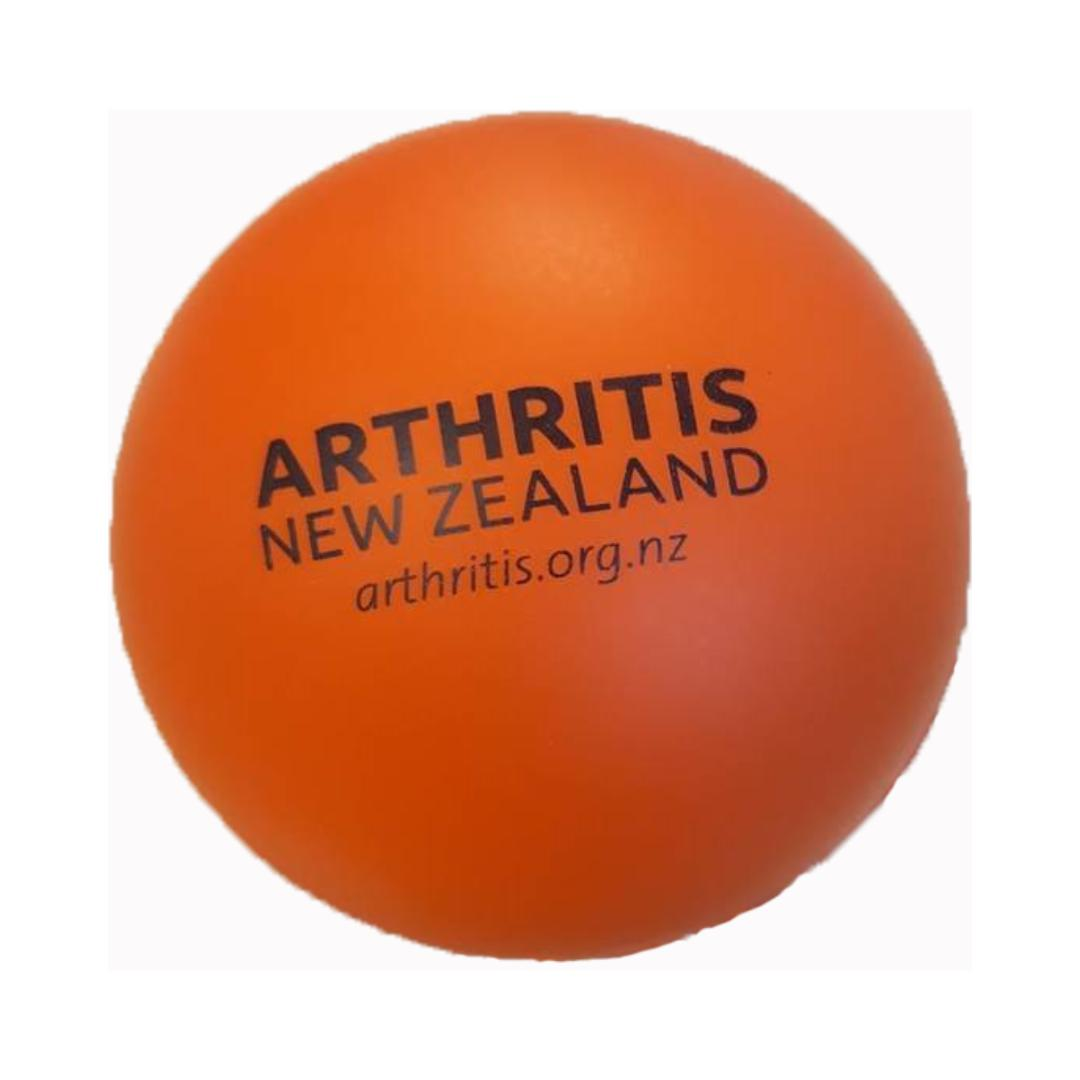sphere: (107, 112, 971, 960)
